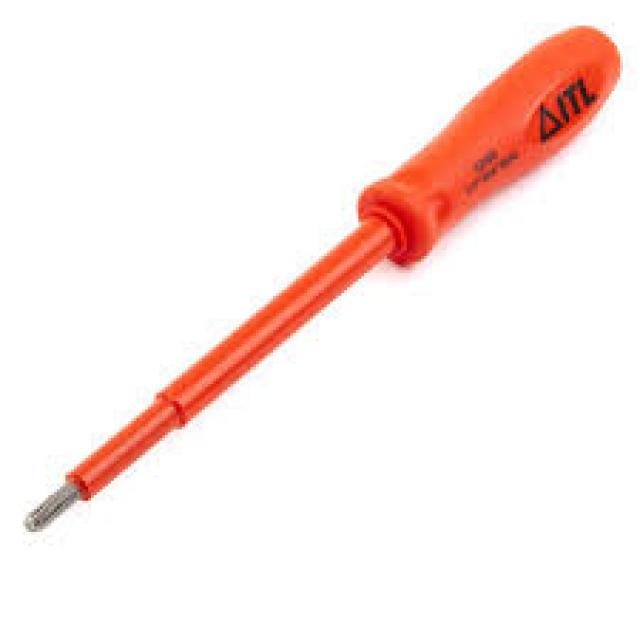screwdriver: (8, 22, 634, 554)
